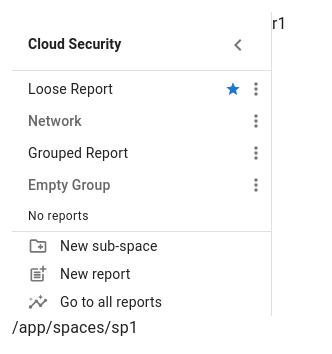
Test: SpaceDetail › navigates when a member report is selected
Click the button "Grouped Report" at [78, 153], box [28, 145, 128, 161]
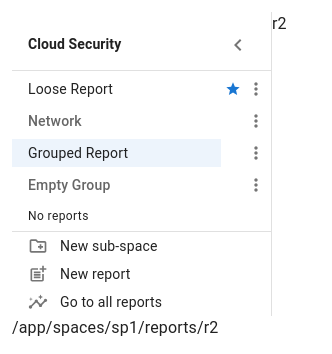
Result: the text with test id "location" reads "/app/spaces/sp1/reports/r2" at [12, 318, 218, 337]
